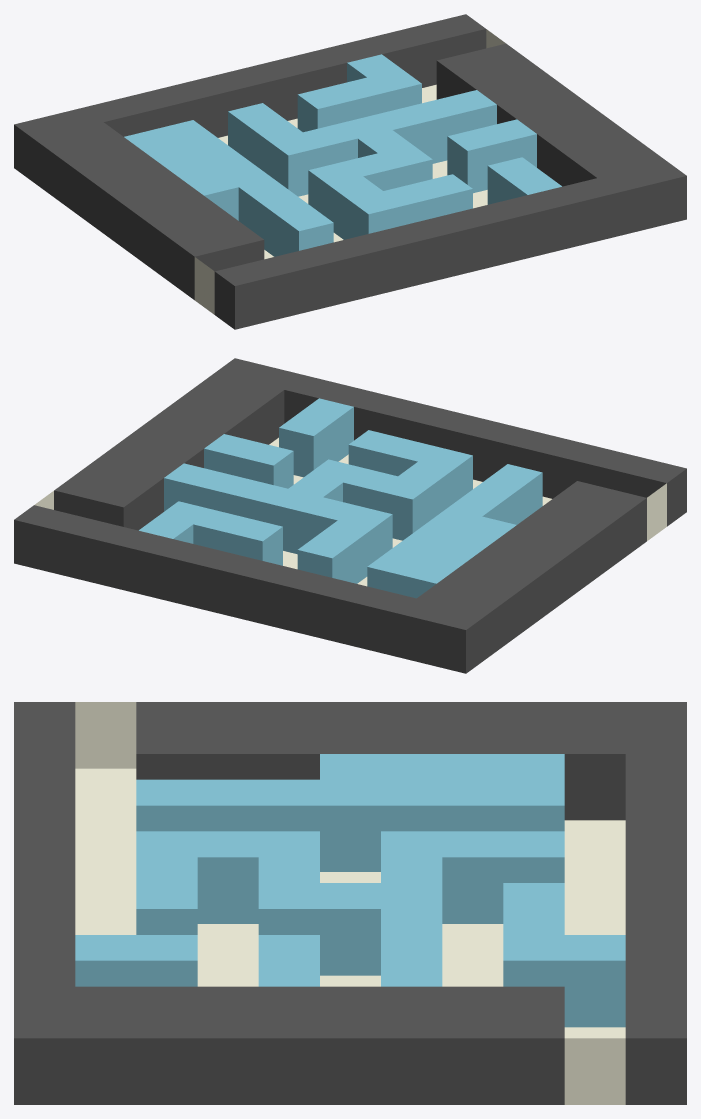
The model's file is mazev4.dae.
3 views of the same model, one above another, from view 1: azimuth 30°, elevation 25°; view 2: azimuth 150°, elevation 25°; view 3: azimuth 270°, elevation 25° (orthographic). The views are drawn at different scales.
Visible parts, largest first — view 1: 平面; view 2: 平面; view 3: 平面.
Boxes of the visible parts, bbox=[...] form: 平面: bbox=[14, 14, 686, 329]; 平面: bbox=[14, 358, 686, 673]; 平面: bbox=[14, 702, 686, 1104].
Bounding box in the file's own units: 16.25 × 13.75 × 1.5.
